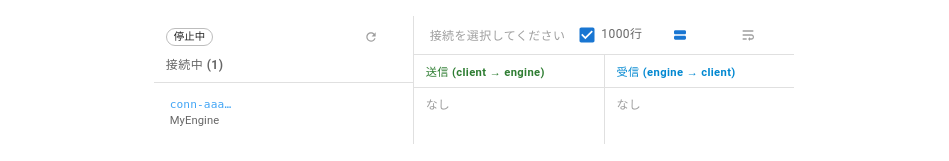
Test: MonitorView › loads logs for the clicked connection and renders them in the default split-pane view
Click the text "MyEngine" at (194, 121), box [170,114,219,128]
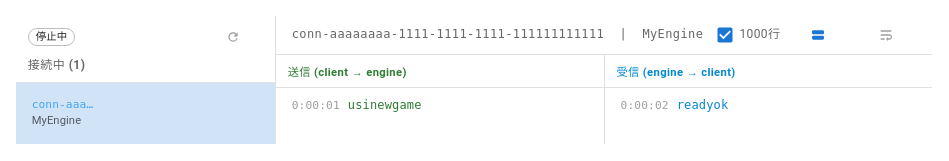
Expected: the text "送信 (client → engine)" is shown, [288,66,407,79]
Now the text "usinewgame" is shown, box [348,96,422,115]
Now the text "readyok" is shown, box [677,96,728,115]
